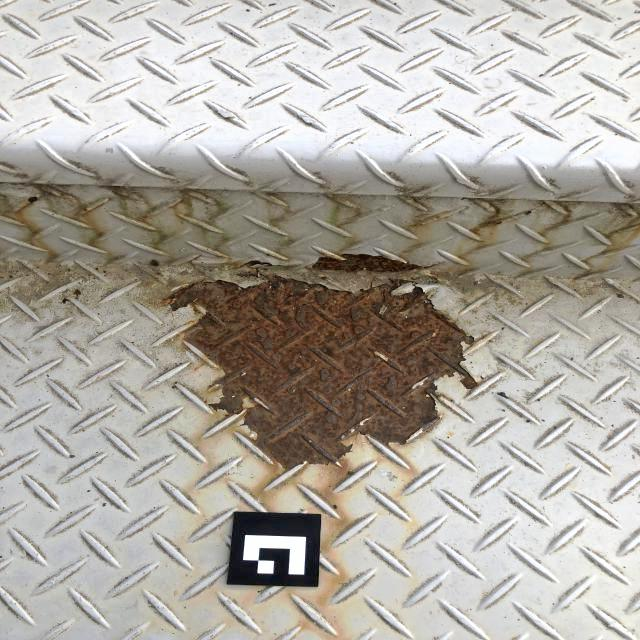Corrosion: (159, 260, 479, 473), (310, 252, 444, 275), (469, 204, 505, 236), (83, 197, 112, 214), (552, 201, 572, 219), (18, 195, 39, 211), (410, 198, 428, 209), (429, 272, 439, 283), (407, 223, 426, 228), (524, 210, 532, 216), (540, 201, 549, 206), (142, 215, 152, 219)
